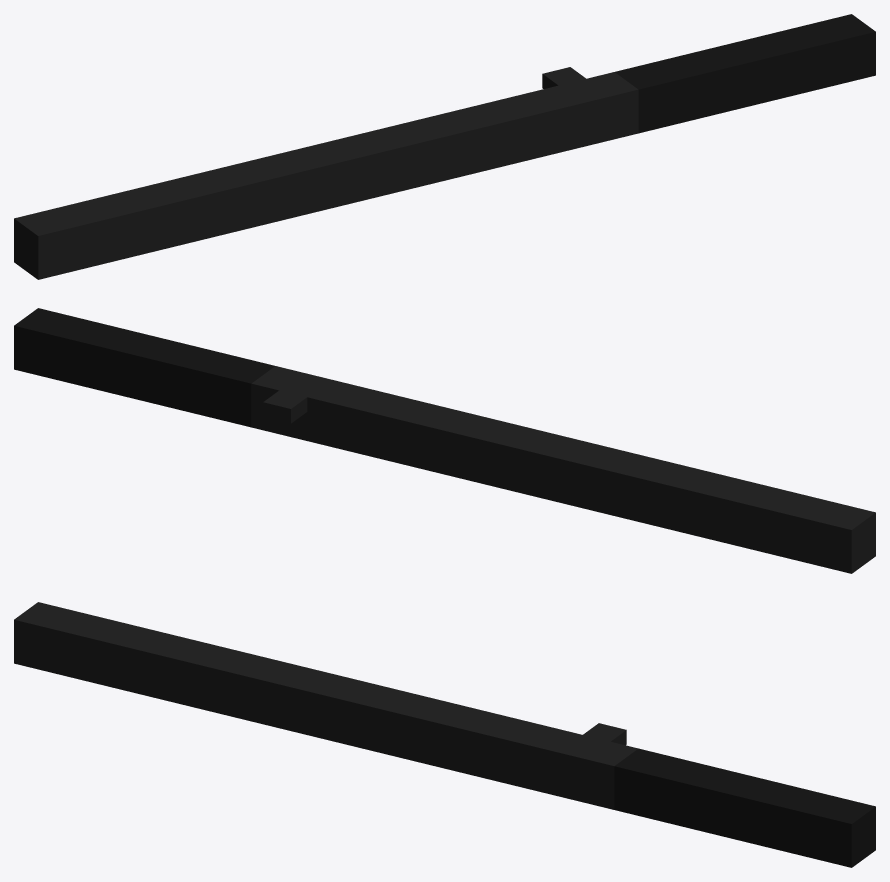
The model's file is Mp40_static_bolt.obj.
3 views of the same model, one above another, from view 1: azimuth 30°, elevation 25°; view 2: azimuth 150°, elevation 25°; view 3: azimuth 330°, elevation 25° (orthographic).
Size of the model in its own units: 6 by 0.3 by 0.5.
1 material, 1 textured.
